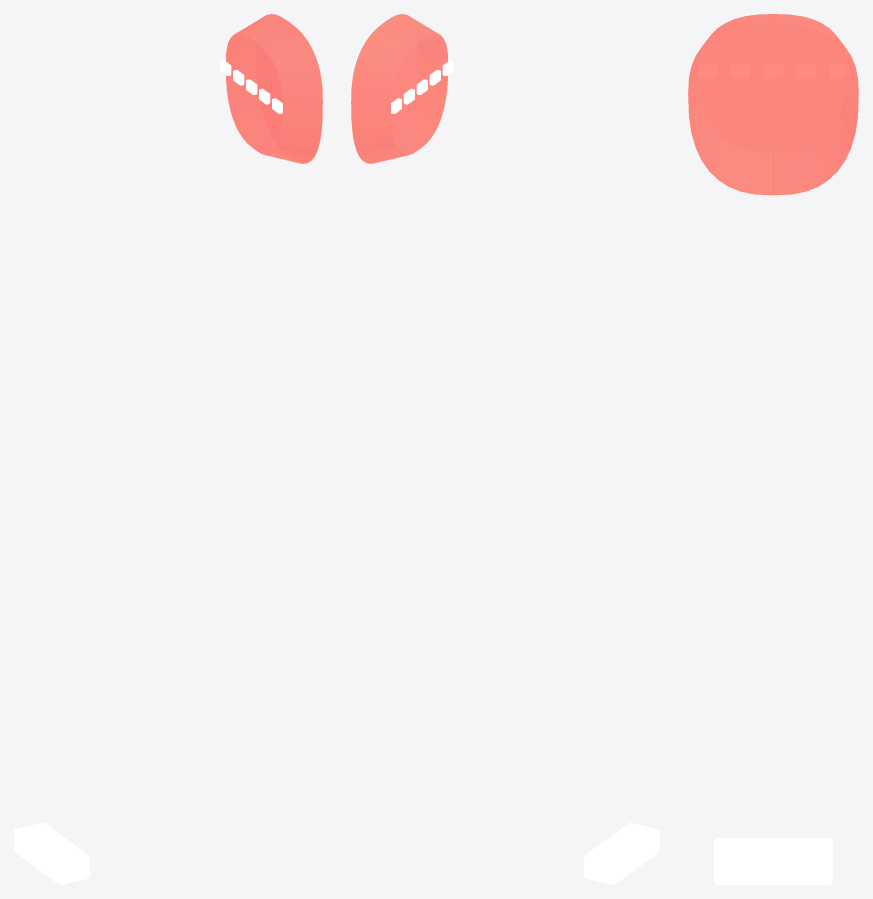
The model's file is bike_superbike__tail_light.glb.
The picture shows the model from 3 angles, left to right: view 1: azimuth 30°, elevation 25°; view 2: azimuth 150°, elevation 25°; view 3: azimuth 270°, elevation 25°; orthographic projection. The views are drawn at different scales.
Visible parts, largest first — view 1: electrical__tail_light, electrical__number_plate_light; view 2: electrical__tail_light, electrical__number_plate_light; view 3: electrical__tail_light, electrical__number_plate_light.
Part boxes in pixels (left/top/right/bottom): electrical__tail_light: left=220, top=14, right=322, bottom=163; electrical__number_plate_light: left=14, top=822, right=89, bottom=884; electrical__tail_light: left=351, top=14, right=453, bottom=163; electrical__number_plate_light: left=584, top=822, right=659, bottom=884; electrical__tail_light: left=688, top=14, right=858, bottom=195; electrical__number_plate_light: left=714, top=838, right=832, bottom=884.
Bounding box in the file's own units: 11.3 × 33.49 × 5.18.
